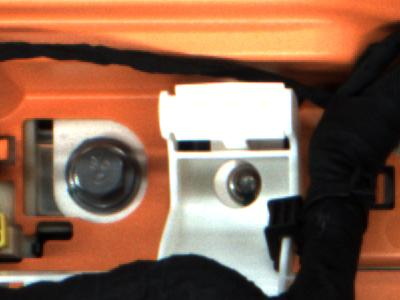nut_b: (59, 138, 142, 211)
